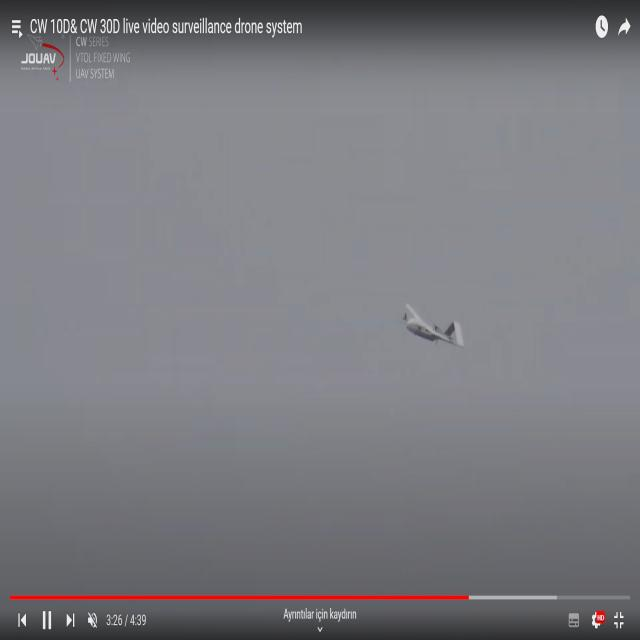iha: (403, 295, 464, 345)
